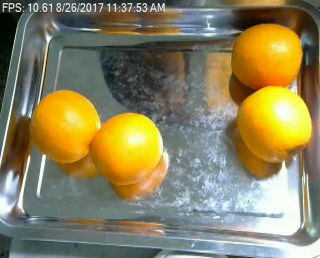Orange: (237, 84, 313, 163), (92, 111, 163, 185), (30, 88, 99, 163), (231, 21, 304, 90)
